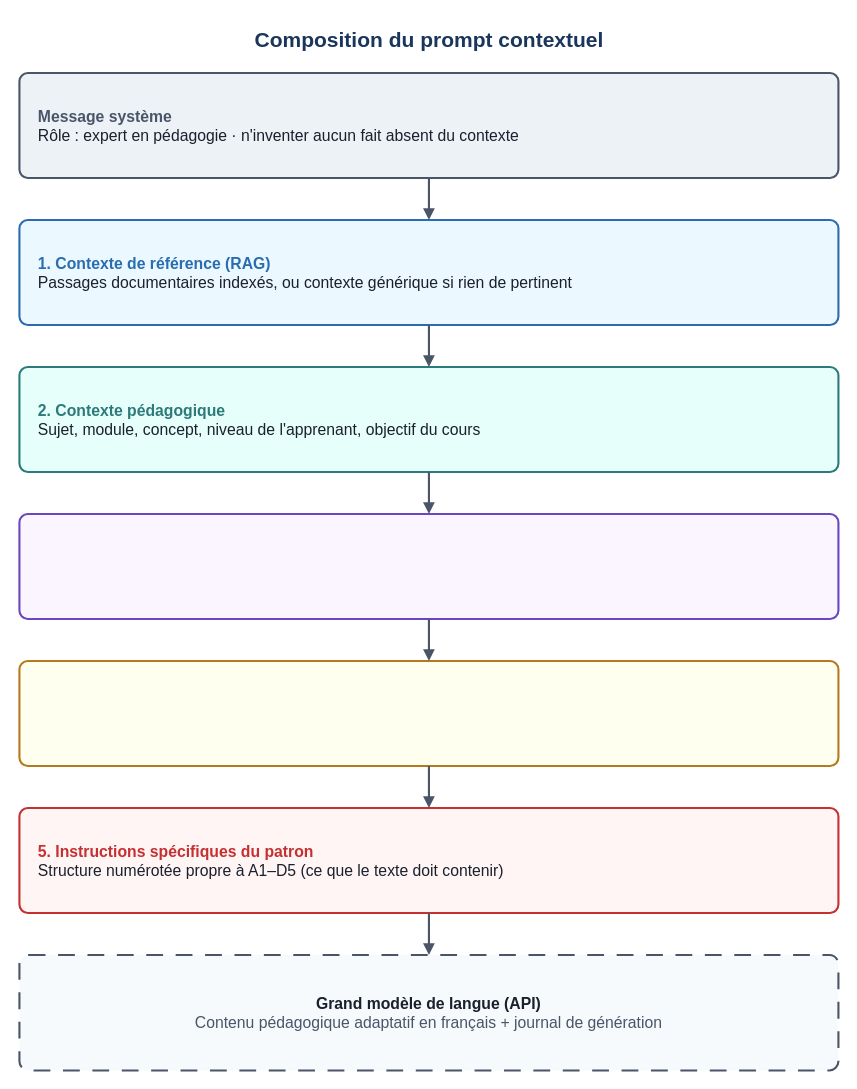
This 857x1089 diagram has some shape labels left out. The centre of each missing label's shape, as x and y in pixels:
3. État d'engagement État, intensité, durée, pattern, moment du cours: (428,566)
4. Tâche et contraintes Patron retenu (A1–D5), objectif, longueur, format, ton: (428,712)
